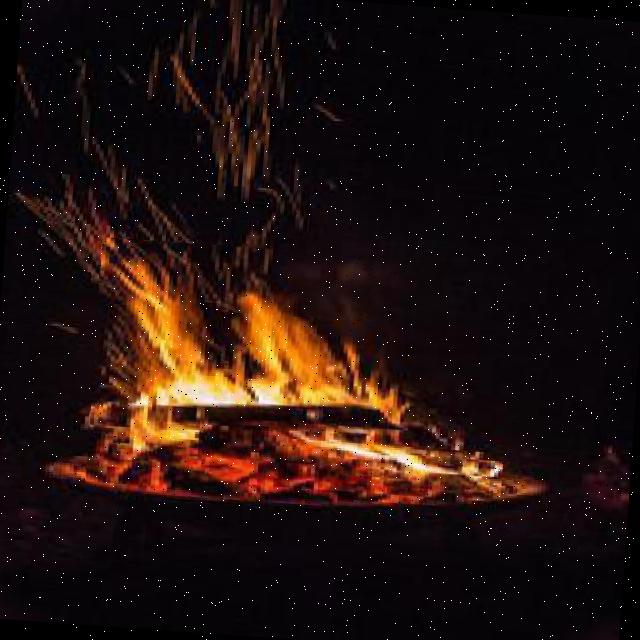fire: (84, 237, 507, 520)
